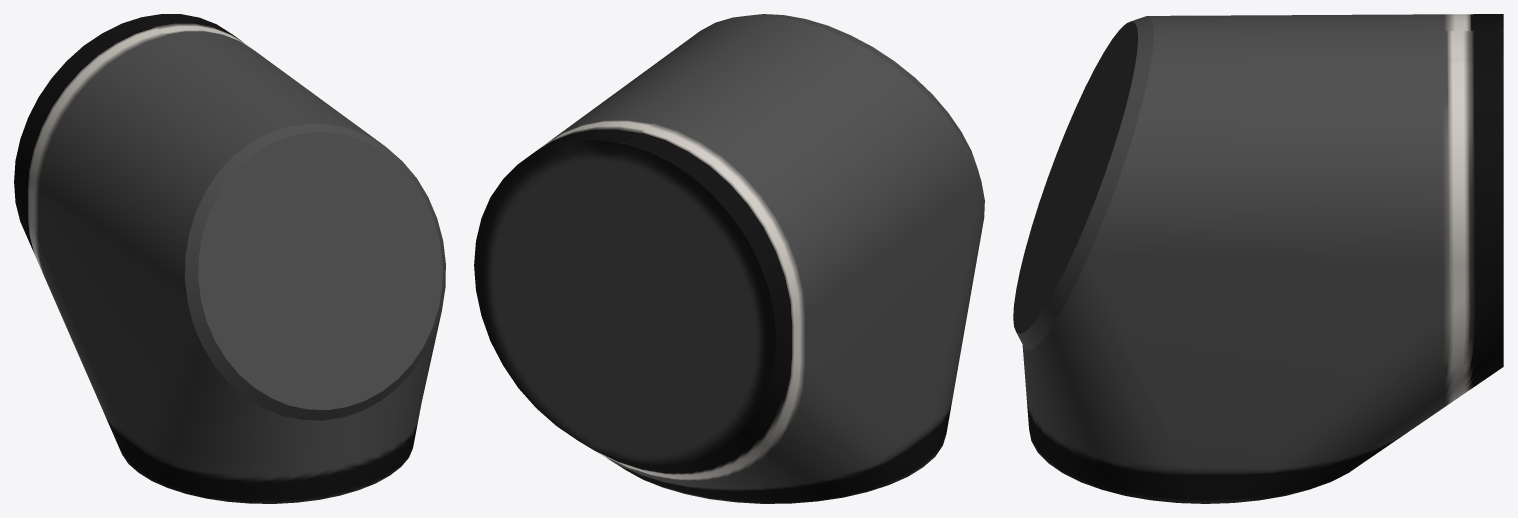
The model's file is wrist2.fbx.
3 renders of one model, left to right at view 1: azimuth 30°, elevation 25°; view 2: azimuth 150°, elevation 25°; view 3: azimuth 270°, elevation 25°, orthographic. The views are drawn at different scales.
Visible parts, largest first — view 1: wrist2; view 2: wrist2; view 3: wrist2.
Boxes of the visible parts, bbox=[...] form: wrist2: bbox=[14, 14, 445, 503]; wrist2: bbox=[474, 14, 984, 503]; wrist2: bbox=[1013, 14, 1503, 503].
Bounding box in the file's own units: 10 × 12.47 × 13.9.
